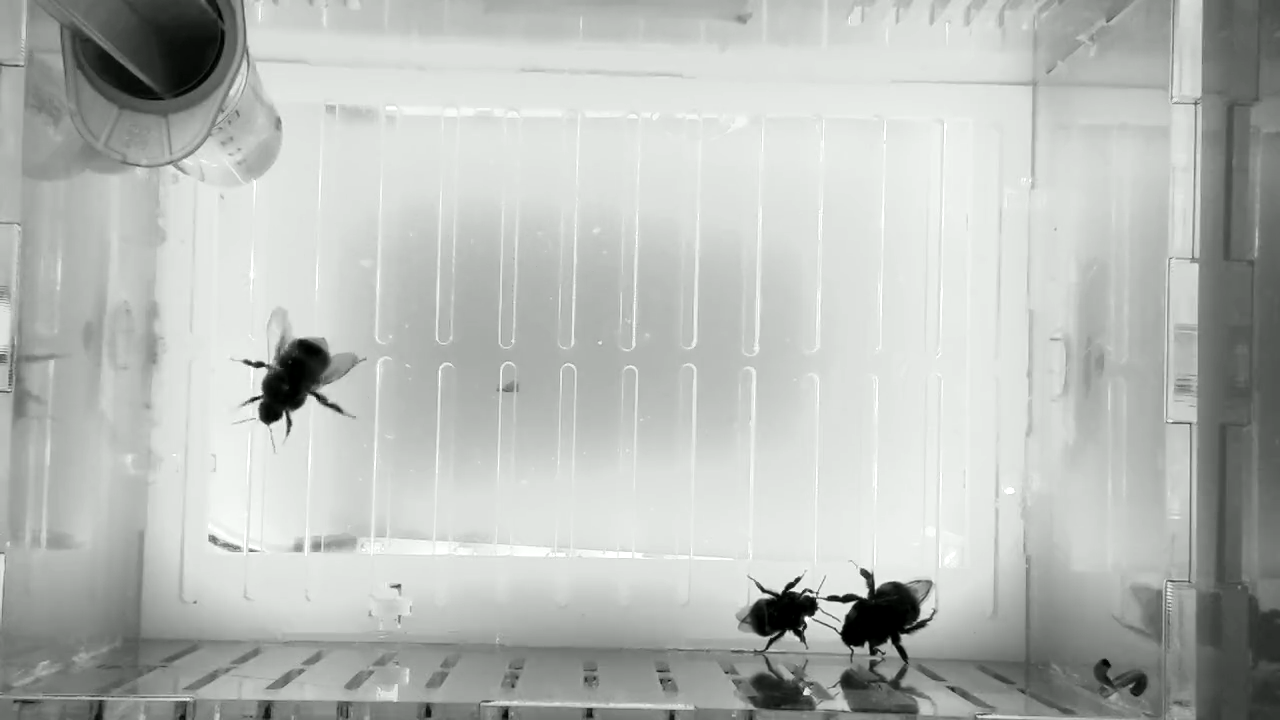bee_alive: (226, 302, 369, 458), (811, 553, 944, 664), (730, 566, 842, 657)
feeder: (166, 60, 289, 194)
